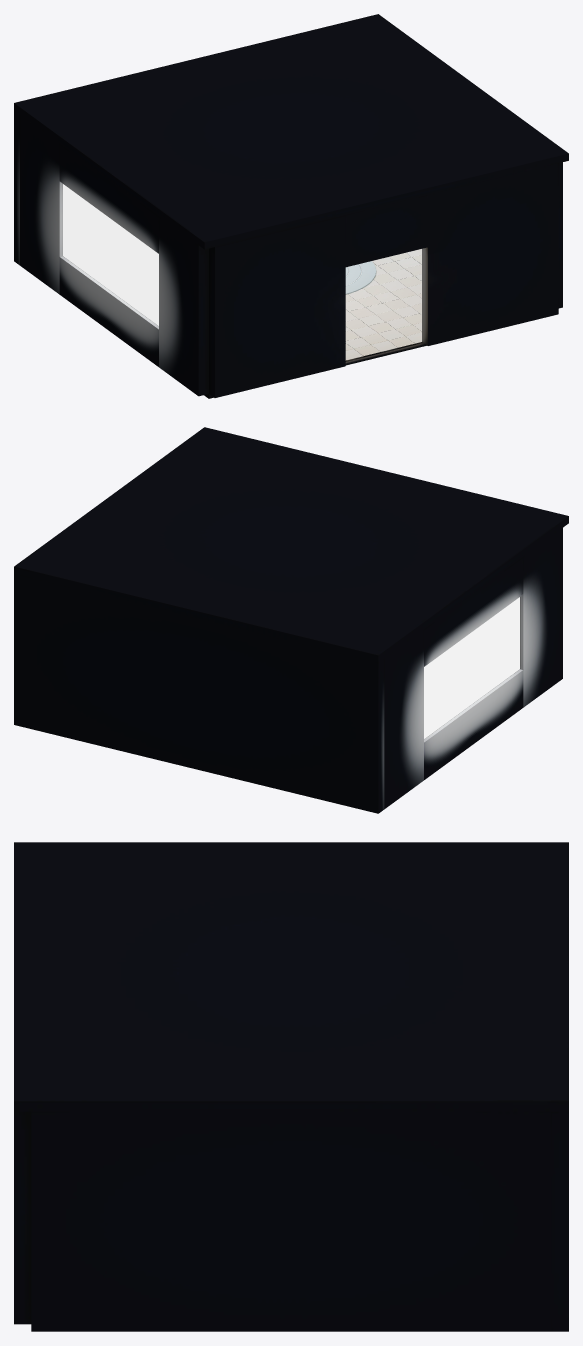
The model's file is room_ocean.glb.
3 renders of one model, top to bottom at view 1: azimuth 30°, elevation 25°; view 2: azimuth 150°, elevation 25°; view 3: azimuth 270°, elevation 25°, orthographic. The views are drawn at different scales.
Parts seen in each view (by area): view 1: baked_ceiling, baked_walls, window_glass, baked_floor, baked_furn; view 2: baked_walls, baked_ceiling, window_glass; view 3: baked_ceiling, baked_walls.
Part boxes in pixels (left/top/right/bottom): baked_ceiling: left=14, top=14, right=568, bottom=249; baked_walls: left=14, top=110, right=562, bottom=397; window_glass: left=63, top=184, right=158, bottom=325; baked_floor: left=204, top=249, right=426, bottom=398; baked_furn: left=345, top=261, right=375, bottom=294; baked_walls: left=14, top=528, right=562, bottom=813; baked_ceiling: left=14, top=427, right=568, bottom=662; window_glass: left=424, top=597, right=519, bottom=738; baked_ceiling: left=14, top=842, right=568, bottom=1111; baked_walls: left=14, top=1111, right=568, bottom=1331.
Bounding box in the file's own units: 10.6 × 4.54 × 9.6.
6 materials, 4 textured.
